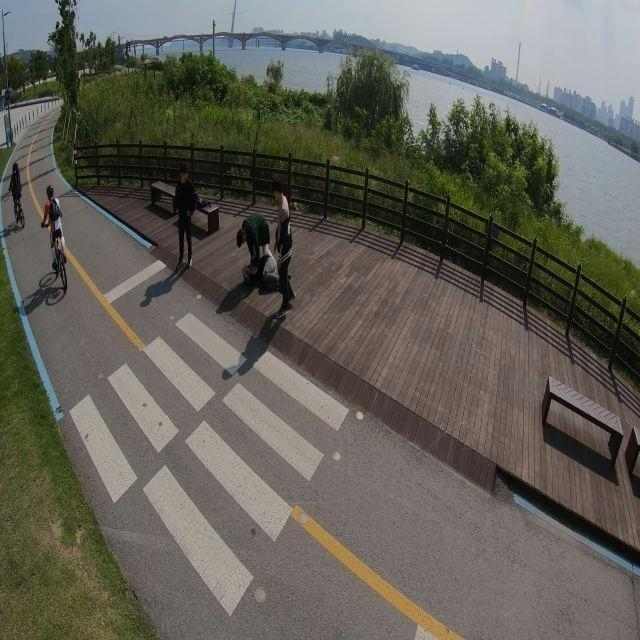fight: (237, 203, 297, 307)
non-fight: (173, 165, 202, 271)
